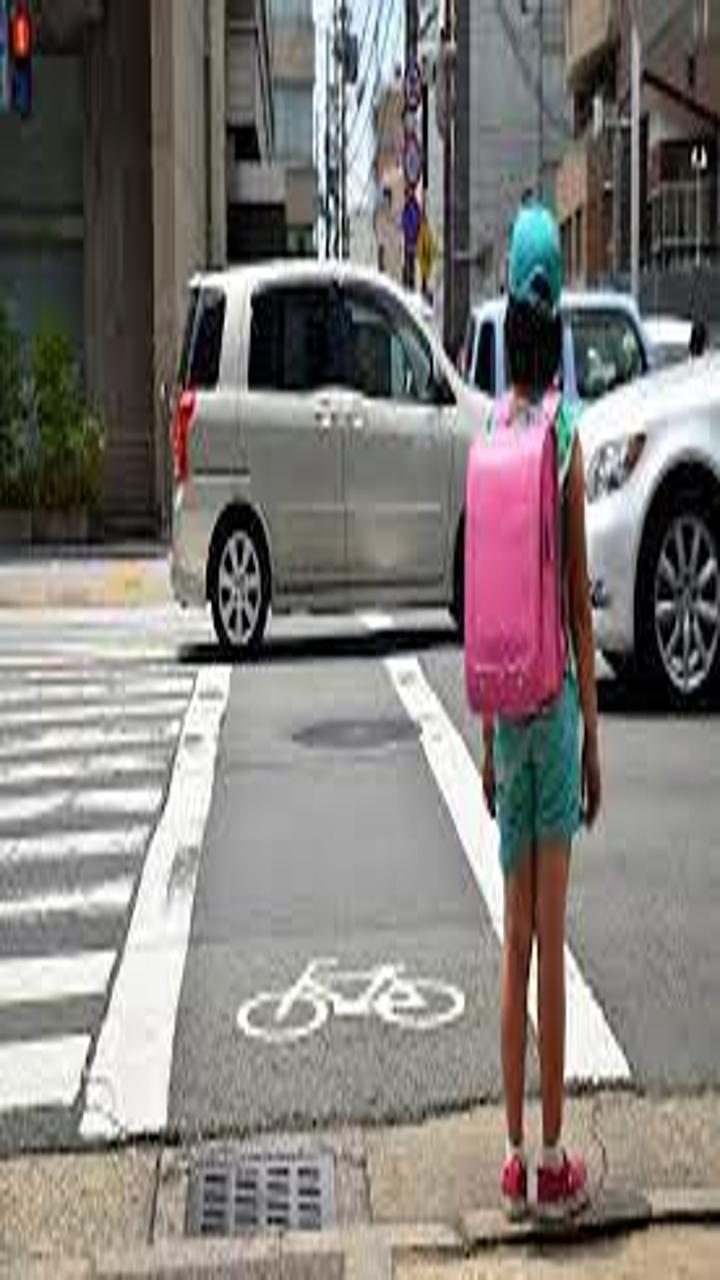pedestrian: (462, 176, 622, 1224)
vehicle: (134, 227, 463, 641)
